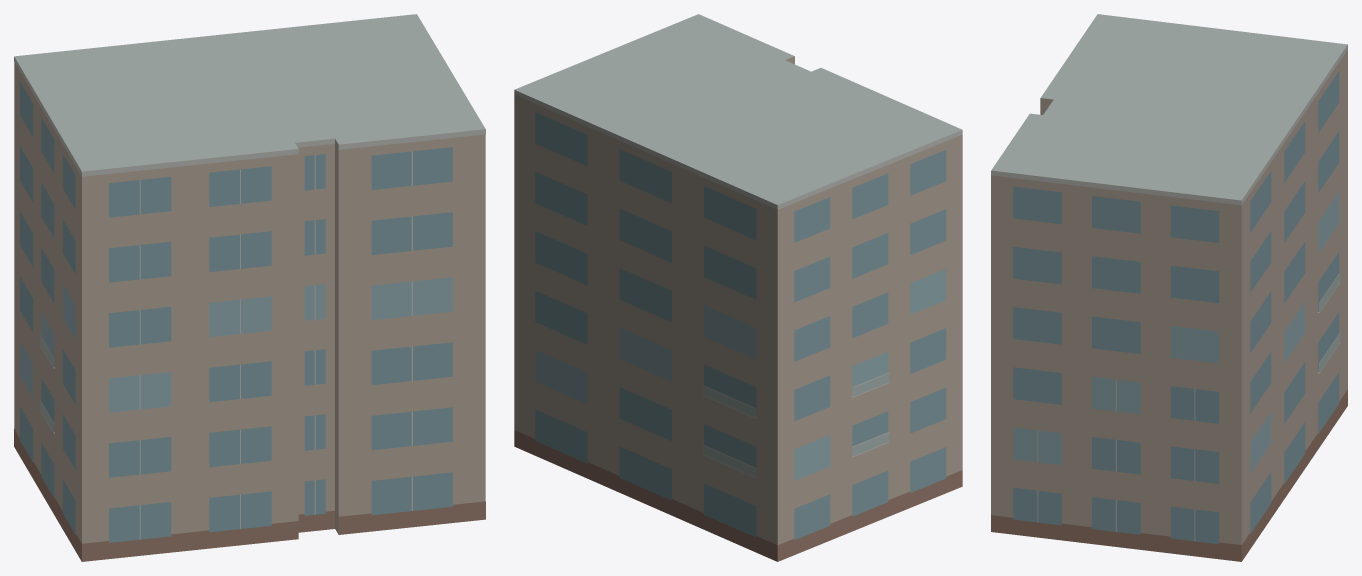
Rendered from survey-upis-32656224.glb.
The picture shows the model from 3 angles, left to right: view 1: azimuth 30°, elevation 25°; view 2: azimuth 150°, elevation 25°; view 3: azimuth 270°, elevation 25°; orthographic projection. The views are drawn at different scales.
Parts seen in each view (by area): view 1: survey-upis-32656224.tmp; view 2: survey-upis-32656224.tmp; view 3: survey-upis-32656224.tmp.
Boxes of the visible parts, x1=… form: survey-upis-32656224.tmp: x1=14, y1=14, x2=485, y2=561; survey-upis-32656224.tmp: x1=514, y1=14, x2=962, y2=561; survey-upis-32656224.tmp: x1=991, y1=14, x2=1347, y2=561.
Size of the model in its own units: 20.26 by 18.3 by 16.38.
